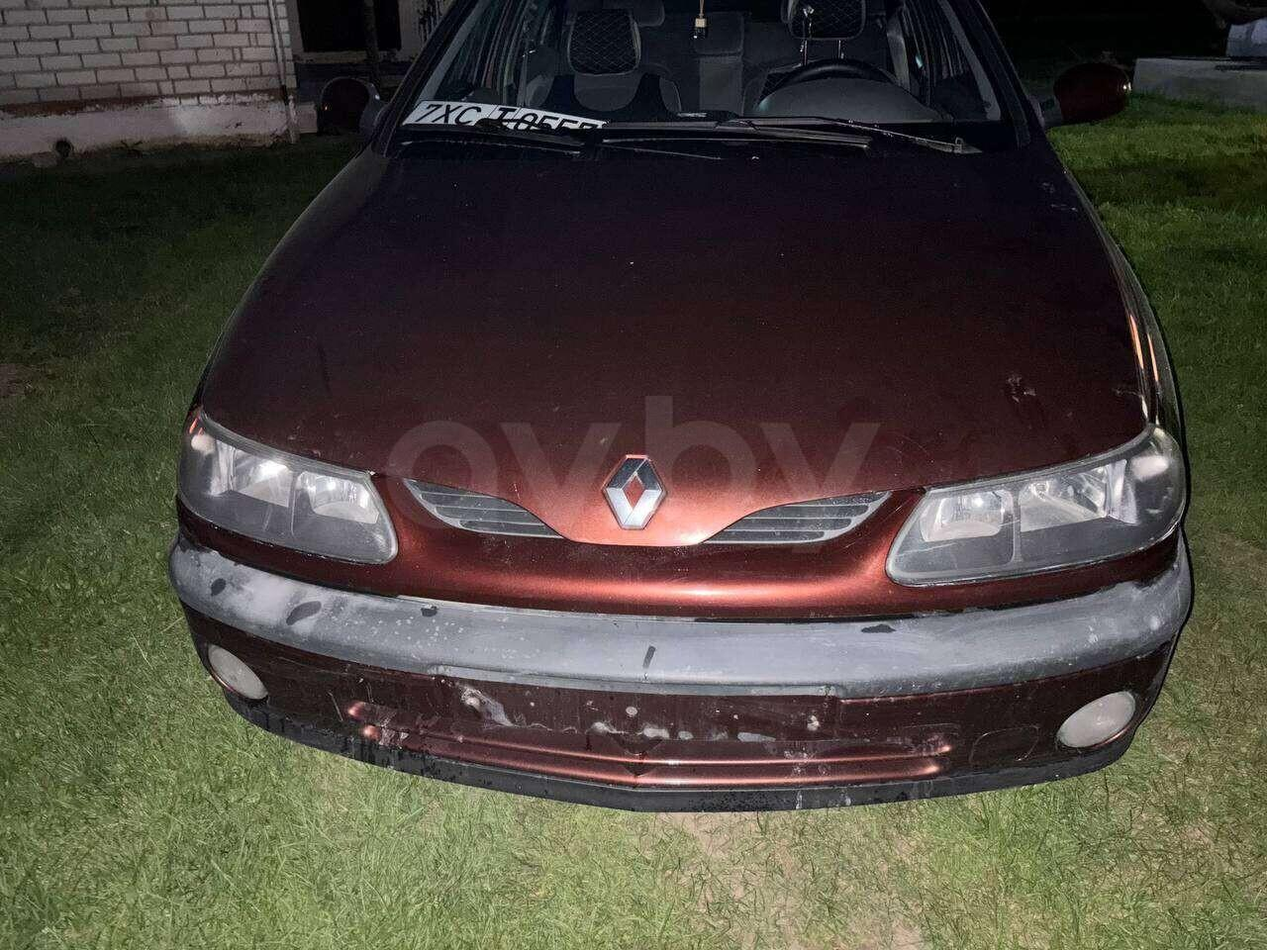Laguna_1998-2001: (162, 0, 1203, 805)
